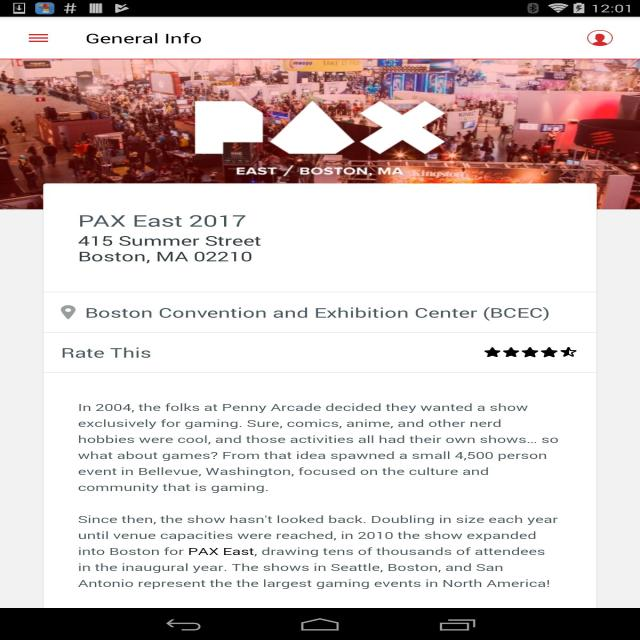button: (476, 346, 583, 360), (584, 28, 616, 48), (24, 29, 53, 48)
heading: (186, 97, 450, 162), (72, 212, 272, 267), (81, 29, 204, 49)
image: (0, 58, 640, 210)
text: (75, 400, 565, 494), (74, 512, 560, 593), (84, 307, 552, 323), (227, 166, 414, 178), (52, 344, 160, 364)
